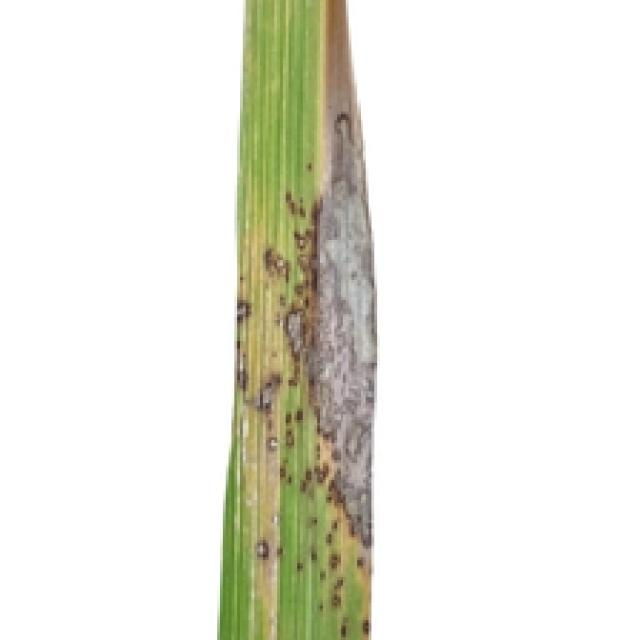Rice___Brown_Spot: (217, 0, 374, 637)
